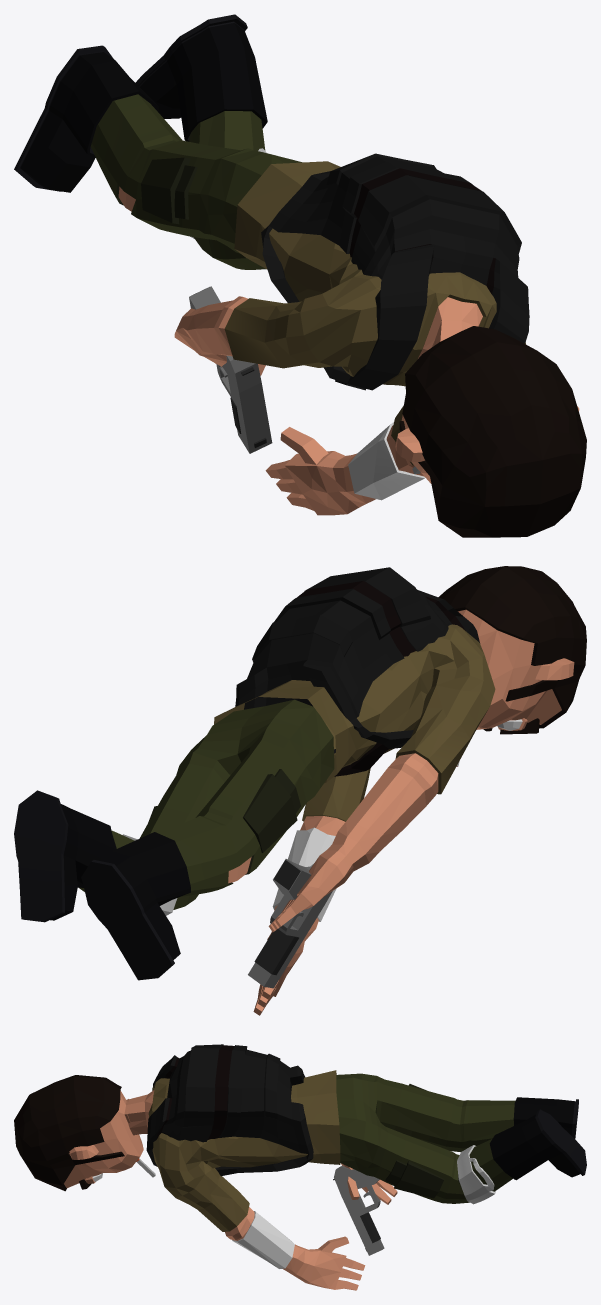
Rendered from frame_0086.obj.
3 views of the same model, one above another, from view 1: azimuth 30°, elevation 25°; view 2: azimuth 150°, elevation 25°; view 3: azimuth 270°, elevation 25° (orthographic). The views are drawn at different scales.
Parts seen in each view (by area): view 1: Body, Gun; view 2: Body, Gun; view 3: Body, Gun.
Part boxes in pixels (left/top/right/bottom): Body: left=14, top=14, right=586, bottom=537; Gun: left=189, top=286, right=272, bottom=453; Body: left=14, top=566, right=586, bottom=1015; Gun: left=248, top=859, right=332, bottom=988; Body: left=14, top=1044, right=586, bottom=1290; Gun: left=333, top=1165, right=384, bottom=1255.
Bounding box in the file's own units: 1.25 × 1.95 × 4.19.
